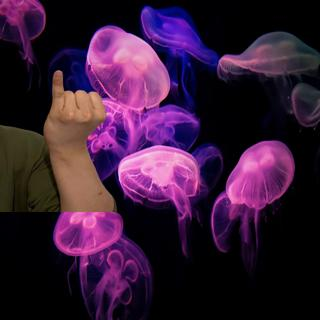FINE: (40, 65, 109, 156)
